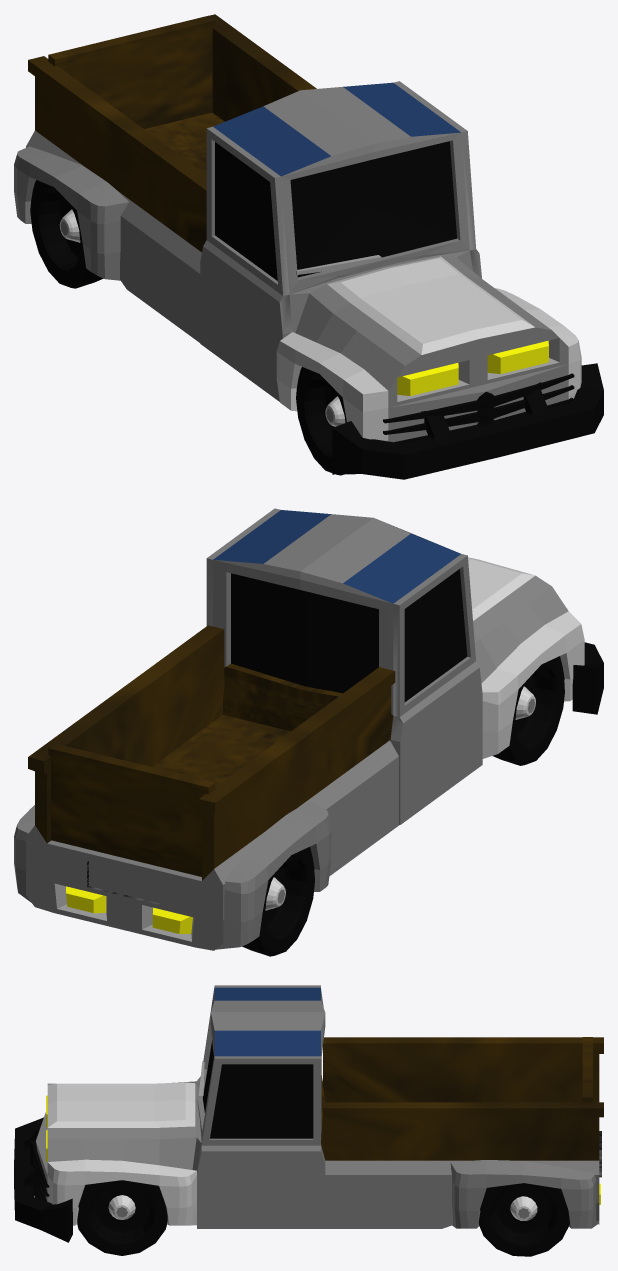
File: CarroFim.fbx
The picture shows the model from 3 angles, top to bottom: view 1: azimuth 30°, elevation 25°; view 2: azimuth 150°, elevation 25°; view 3: azimuth 270°, elevation 25°; orthographic projection. The views are drawn at different scales.
Visible parts, largest first — view 1: CabineCarro, CarroceriaCarro, PortaDir, PortaCarroceria, CapoCarro, RodaTraseiraDir, RodaFrenteDir, PortaEsq; view 2: CabineCarro, CarroceriaCarro, PortaDir, PortaCarroceria, RodaTraseiraDir, RodaFrenteDir, CapoCarro, PortaEsq; view 3: CabineCarro, CarroceriaCarro, PortaEsq, CapoCarro, RodaFrenteEsq, RodaTraseiraEsq, PortaCarroceria, PortaDir.
Boxes of the visible parts, x1=… form: CabineCarro: x1=14, y1=82, x2=603, y2=479; CarroceriaCarro: x1=28, y1=14, x2=316, y2=252; PortaDir: x1=200, y1=126, x2=292, y2=401; PortaCarroceria: x1=48, y1=15, x2=215, y2=128; CapoCarro: x1=327, y1=256, x2=534, y2=354; RodaTraseiraDir: x1=30, y1=180, x2=103, y2=288; RodaFrenteDir: x1=296, y1=367, x2=346, y2=475; PortaEsq: x1=394, y1=81, x2=481, y2=278; CabineCarro: x1=14, y1=510, x2=603, y2=950; CarroceriaCarro: x1=28, y1=625, x2=395, y2=880; PortaDir: x1=390, y1=554, x2=482, y2=824; PortaCarroceria: x1=48, y1=743, x2=215, y2=876; RodaTraseiraDir: x1=242, y1=847, x2=314, y2=956; RodaFrenteDir: x1=493, y1=656, x2=564, y2=765; CapoCarro: x1=468, y1=557, x2=534, y2=620; PortaEsq: x1=206, y1=508, x2=280, y2=626; CabineCarro: x1=14, y1=987, x2=601, y2=1242; CarroceriaCarro: x1=323, y1=1037, x2=603, y2=1160; PortaEsq: x1=197, y1=1056, x2=325, y2=1228; CapoCarro: x1=47, y1=1082, x2=195, y2=1127; RodaFrenteEsq: x1=77, y1=1180, x2=167, y2=1255; RodaTraseiraEsq: x1=478, y1=1183, x2=569, y2=1256; PortaCarroceria: x1=582, y1=1037, x2=592, y2=1103; PortaDir: x1=203, y1=985, x2=322, y2=1081.
Size of the model in its own units: 258 by 245 by 638.
